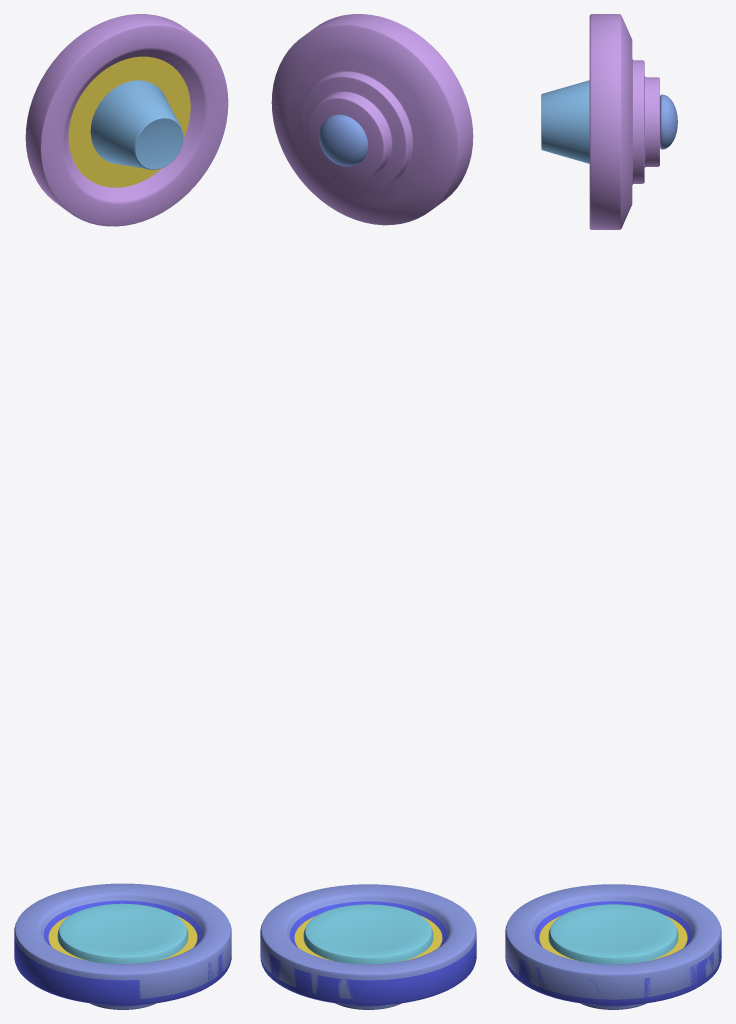
Rendered from Buttons.fbx.
3 views of the same model, side by side, from view 1: azimuth 30°, elevation 25°; view 2: azimuth 150°, elevation 25°; view 3: azimuth 270°, elevation 25° (orthographic).
Visible parts, largest first — view 1: Breath Sensor, Timbre, Button, Base Button; view 2: Breath Sensor, Timbre, Base Button, Button; view 3: Breath Sensor, Timbre, Button, Base Button.
Boxes of the visible parts, x1=… form: Breath Sensor: x1=25, y1=14, x2=228, y2=226; Timbre: x1=14, y1=883, x2=231, y2=1009; Button: x1=57, y1=903, x2=188, y2=963; Base Button: x1=14, y1=900, x2=231, y2=1006; Breath Sensor: x1=271, y1=14, x2=473, y2=225; Timbre: x1=260, y1=884, x2=476, y2=1009; Base Button: x1=260, y1=901, x2=476, y2=1006; Button: x1=303, y1=904, x2=433, y2=964; Breath Sensor: x1=541, y1=14, x2=677, y2=229; Timbre: x1=505, y1=884, x2=721, y2=1009; Button: x1=548, y1=904, x2=678, y2=964; Base Button: x1=505, y1=901, x2=721, y2=1006.
Size of the model in its own units: 200 by 988 by 200.
